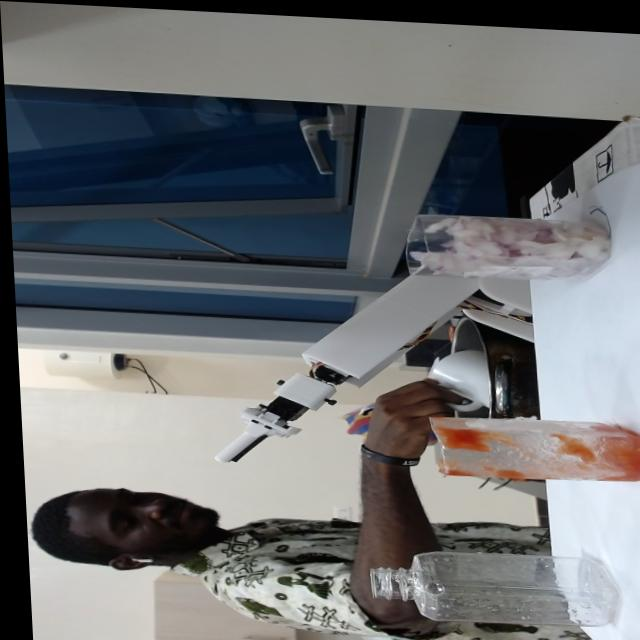blended_tomatoes_pepper: (583, 413, 640, 477)
sliced_onions: (420, 203, 610, 276)
